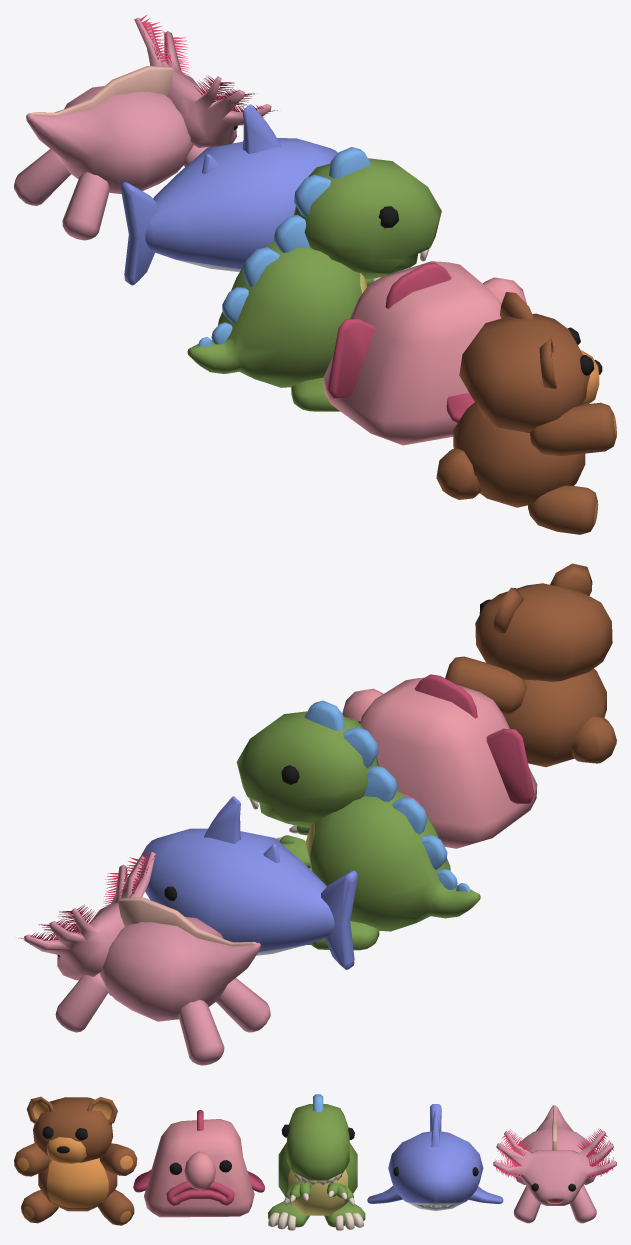
Rendered from clawitems.glb.
3 views of the same model, one above another, from view 1: azimuth 30°, elevation 25°; view 2: azimuth 150°, elevation 25°; view 3: azimuth 270°, elevation 25° (orthographic). The views are drawn at different scales.
Parts seen in each view (by area): view 1: Dino, Bear, Axolotyl, Blobfish, Cube; view 2: Dino, Axolotyl, Bear, Blobfish, Cube; view 3: Bear, Blobfish, Dino, Axolotyl, Cube.
Part boxes in pixels (x1,y1,x2,y2): Dino: (187,147,441,411); Bear: (436,292,616,534); Axolotyl: (14,14,277,240); Blobfish: (323,261,526,445); Cube: (121,104,337,285); Dino: (236,700,480,950); Axolotyl: (18,851,270,1065); Bear: (445,563,616,767); Blobfish: (342,674,537,848); Cube: (139,796,357,970); Bear: (14,1096,137,1225); Blobfish: (133,1110,264,1217); Dino: (268,1094,365,1230); Axolotyl: (493,1105,616,1223); Cube: (367,1104,503,1210).
Bounding box in the file's own units: 1.5 × 1.27 × 5.12.
